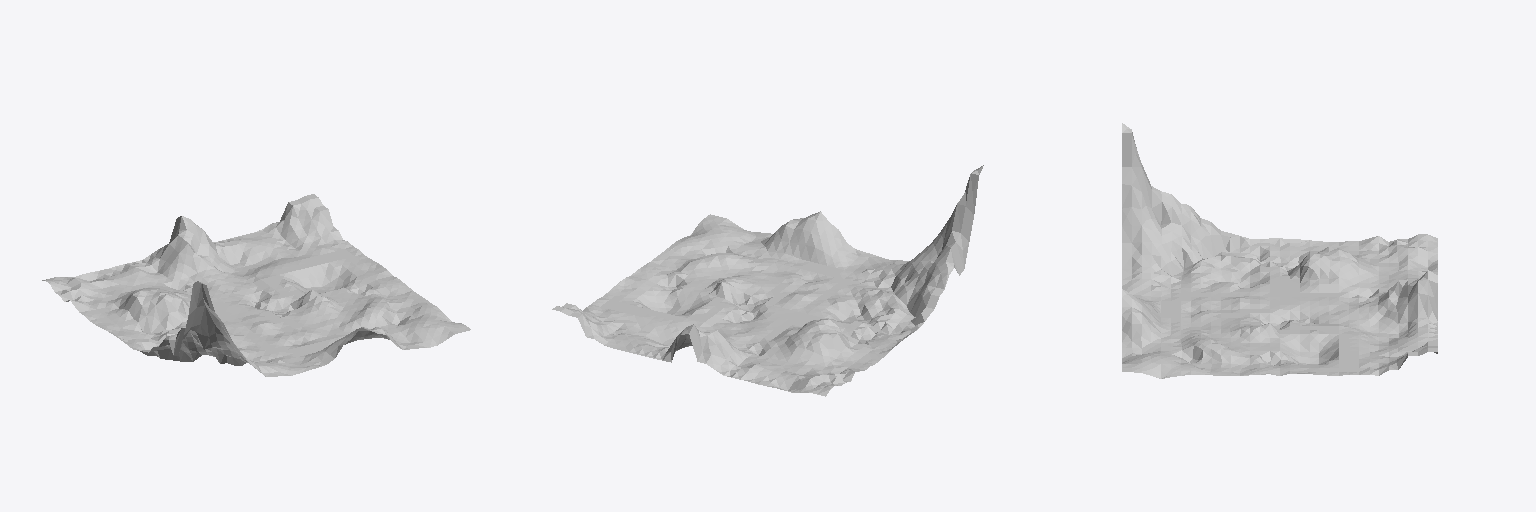
Rendered from track-env.obj.
3 views of the same model, side by side, from view 1: azimuth 30°, elevation 25°; view 2: azimuth 150°, elevation 25°; view 3: azimuth 270°, elevation 25° (orthographic).
Visible parts, largest first — view 1: Plane.001; view 2: Plane.001; view 3: Plane.001.
Part boxes in pixels (x1,y1,x2,y2): Plane.001: (42,194,470,376); Plane.001: (552,165,983,396); Plane.001: (1122,123,1437,378).
Size of the model in its own units: 176 by 81.75 by 176.